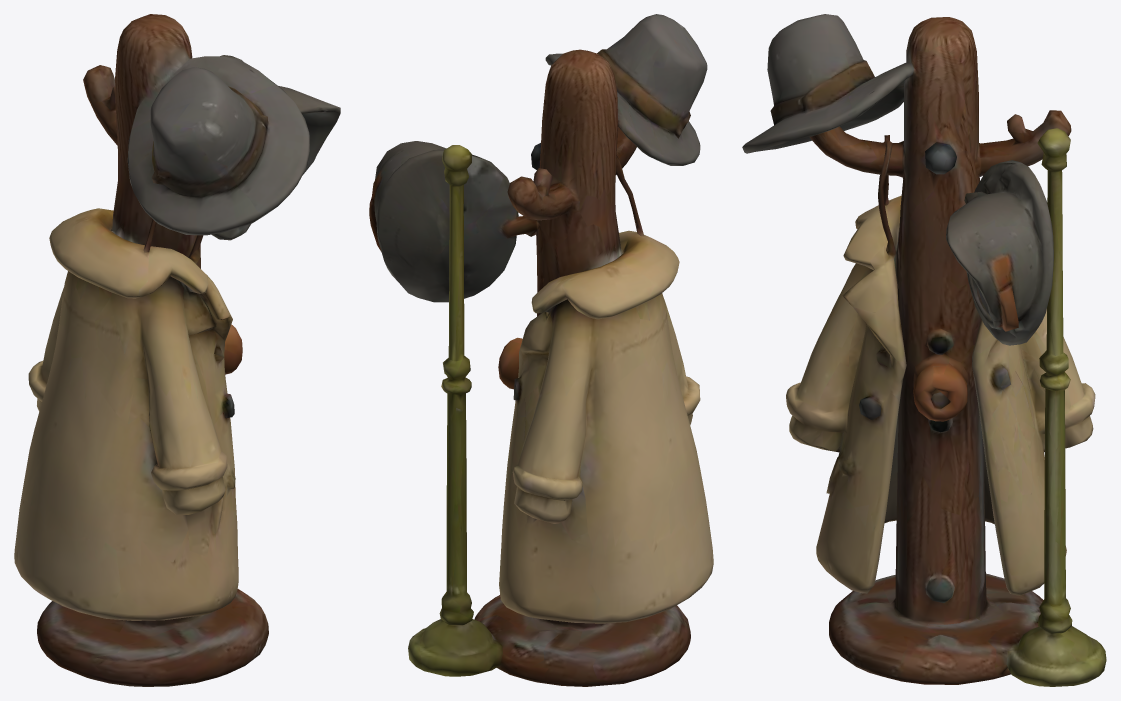
File: deco_coatrack.glb
3 views of the same model, side by side, from view 1: azimuth 30°, elevation 25°; view 2: azimuth 150°, elevation 25°; view 3: azimuth 270°, elevation 25° (orthographic). The views are drawn at different scales.
Visible parts, largest first — view 1: tripo_node_bacf55c6-0937-48ed-8bec-7b2a6b74a149; view 2: tripo_node_bacf55c6-0937-48ed-8bec-7b2a6b74a149; view 3: tripo_node_bacf55c6-0937-48ed-8bec-7b2a6b74a149.
Boxes of the visible parts, x1=… form: tripo_node_bacf55c6-0937-48ed-8bec-7b2a6b74a149: x1=14, y1=14, x2=340, y2=686; tripo_node_bacf55c6-0937-48ed-8bec-7b2a6b74a149: x1=369, y1=14, x2=713, y2=686; tripo_node_bacf55c6-0937-48ed-8bec-7b2a6b74a149: x1=742, y1=14, x2=1106, y2=686.
Size of the model in its own units: 0.5371 by 1 by 0.5314.
1 material, 1 textured.
